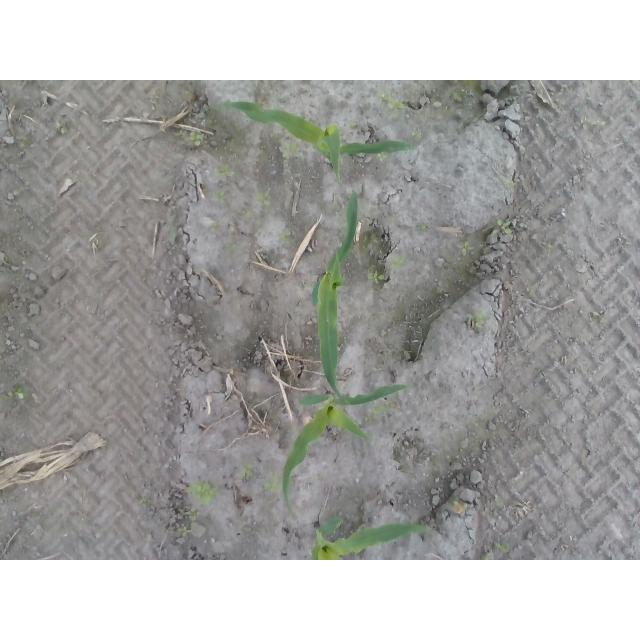Maize: (221, 98, 421, 182), (281, 384, 407, 514), (312, 190, 359, 399), (311, 516, 434, 561)
Weeds: (186, 480, 219, 505), (279, 142, 304, 159), (179, 132, 205, 148), (365, 268, 387, 285), (240, 465, 259, 482), (256, 190, 273, 206), (497, 220, 513, 237), (385, 97, 403, 111), (8, 386, 26, 400), (215, 165, 234, 178), (184, 508, 201, 521), (266, 476, 278, 493), (459, 241, 473, 254), (392, 256, 406, 269), (178, 527, 194, 537), (15, 136, 27, 149), (481, 552, 495, 561), (377, 152, 388, 162), (214, 190, 225, 200), (280, 231, 291, 241), (496, 543, 509, 551), (56, 122, 64, 134)
